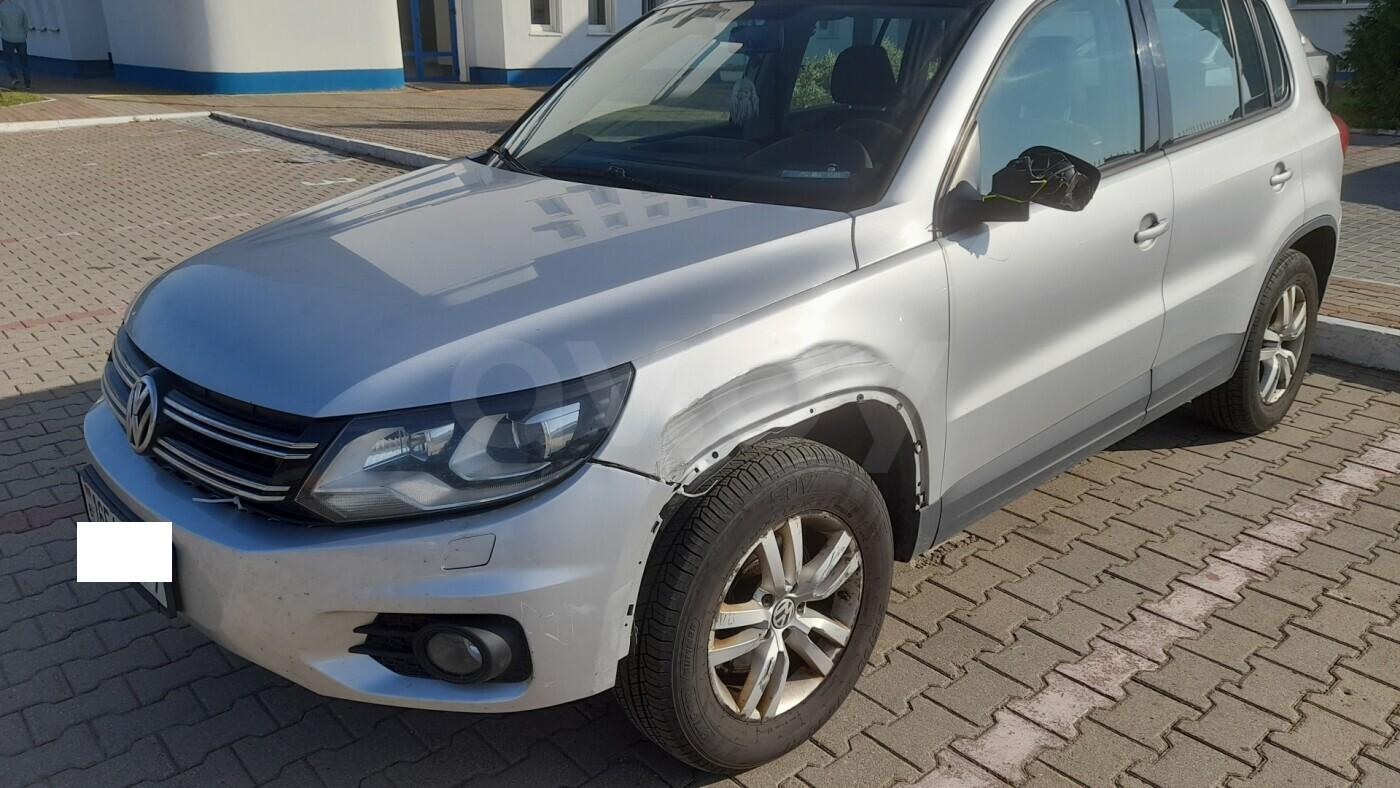Tiguan_2011-2018: (76, 0, 1351, 775)
